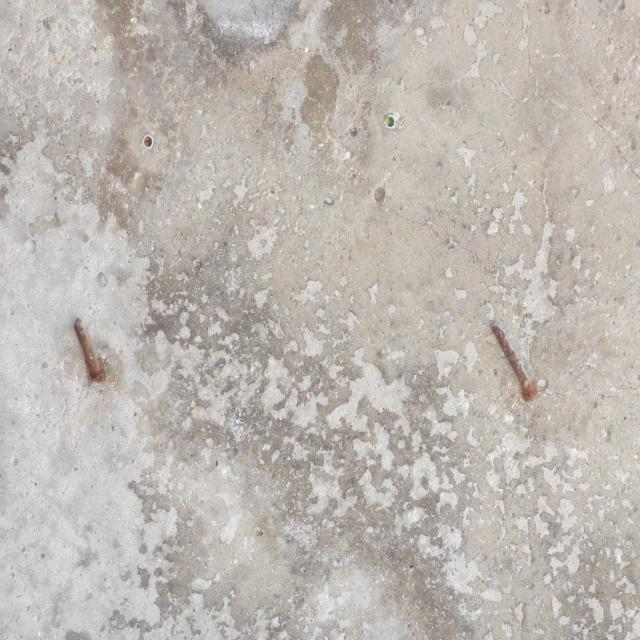Rebar: (489, 321, 539, 406), (71, 314, 109, 384)
